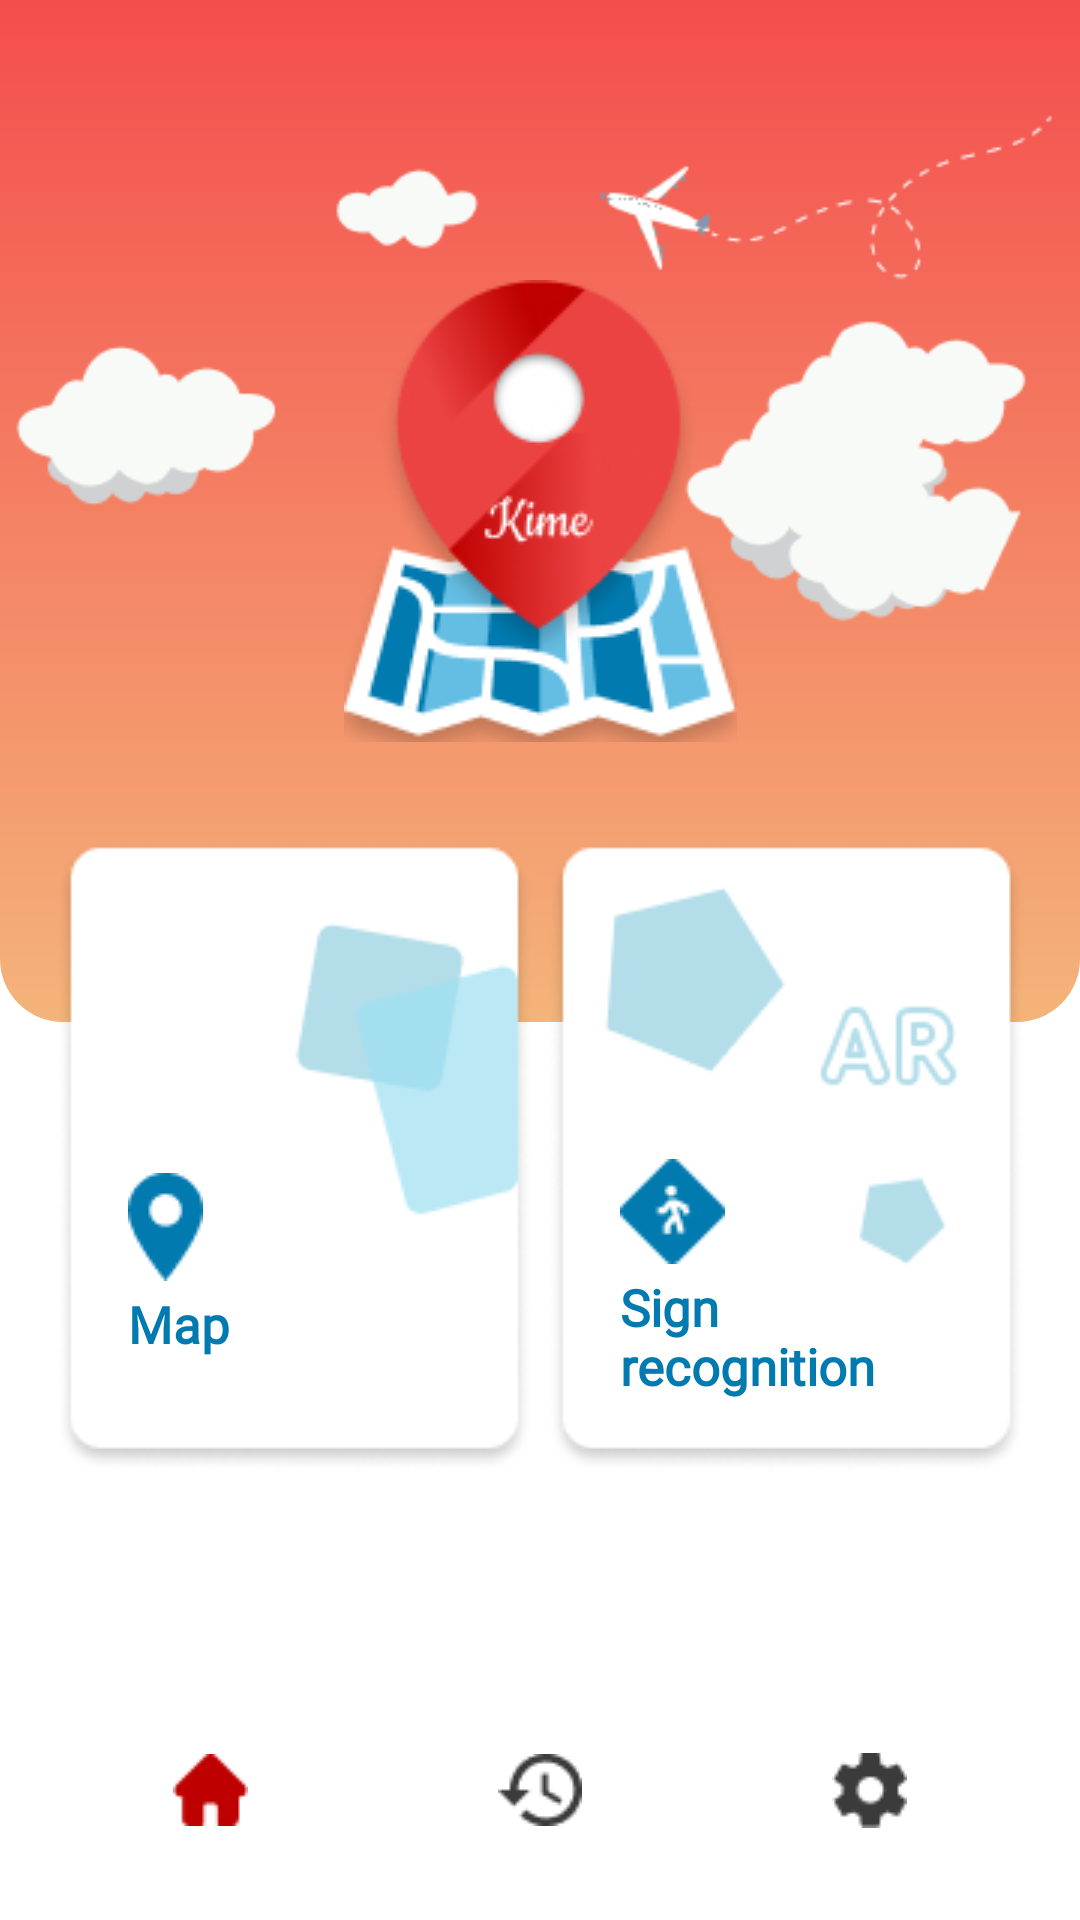

Point at icon controls on the screen. Image size 1080×1920, points as [x,y].
homepage history: [540,1790]
homepage home: [210,1790]
homepage pedestrian crossing: [672,1211]
homepage settings: [869,1790]
